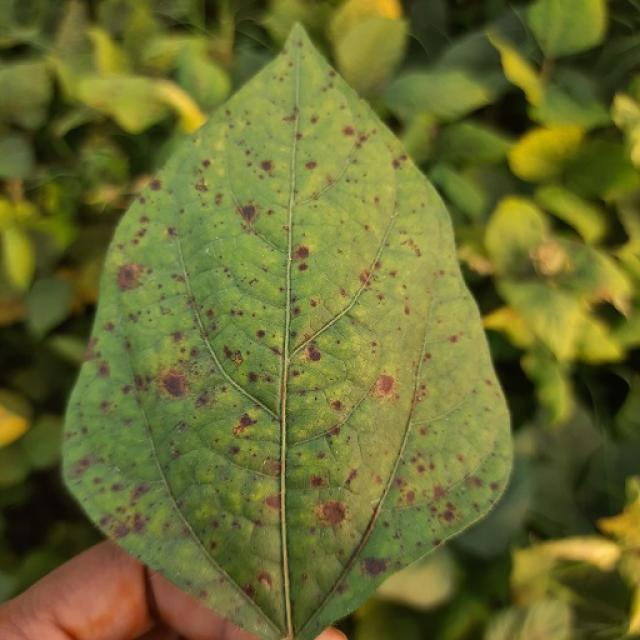Anthracnose: (60, 24, 515, 639), (531, 240, 569, 275), (296, 338, 333, 371), (116, 262, 143, 291), (318, 500, 346, 526), (193, 460, 216, 484), (361, 556, 388, 576), (222, 346, 245, 367), (399, 238, 421, 259), (375, 374, 395, 397), (233, 413, 256, 433), (237, 203, 257, 225), (112, 522, 132, 538), (73, 457, 92, 473), (293, 245, 310, 261), (265, 494, 282, 510), (431, 484, 447, 501), (344, 468, 358, 487), (257, 572, 272, 588), (96, 361, 110, 378), (194, 179, 208, 193), (442, 507, 456, 521), (310, 475, 324, 488), (170, 331, 184, 344), (242, 583, 255, 597), (359, 270, 371, 284), (260, 160, 273, 172), (149, 179, 162, 191), (342, 126, 355, 137), (247, 372, 259, 383), (331, 400, 342, 411), (189, 346, 200, 357), (103, 321, 114, 332), (305, 161, 317, 171), (255, 329, 266, 339), (230, 445, 240, 455), (166, 226, 176, 236), (448, 334, 459, 343), (291, 307, 301, 316), (201, 159, 211, 168), (294, 39, 303, 48), (403, 306, 411, 316), (310, 299, 318, 307), (301, 573, 308, 581)
Blackgram: (158, 365, 199, 404)
